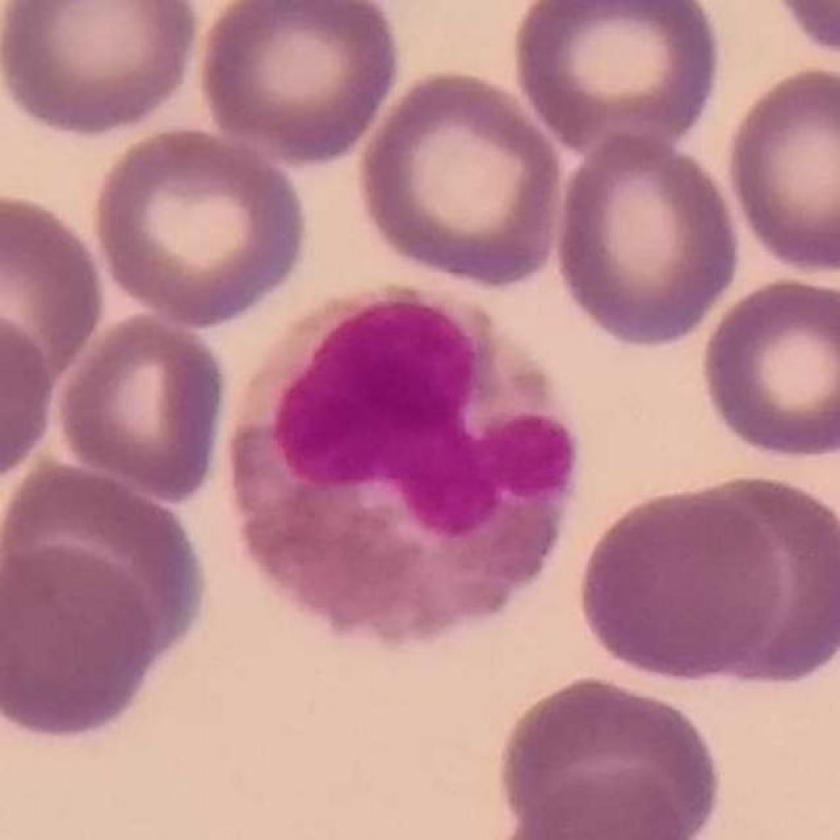eosinophil: (228, 279, 581, 643)
